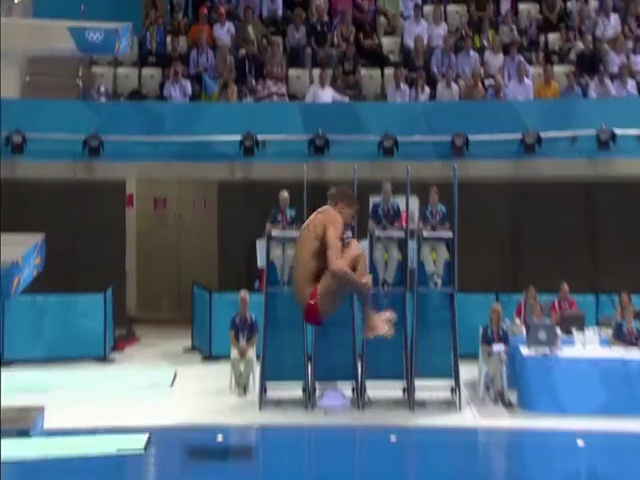diver: (295, 183, 397, 339)
